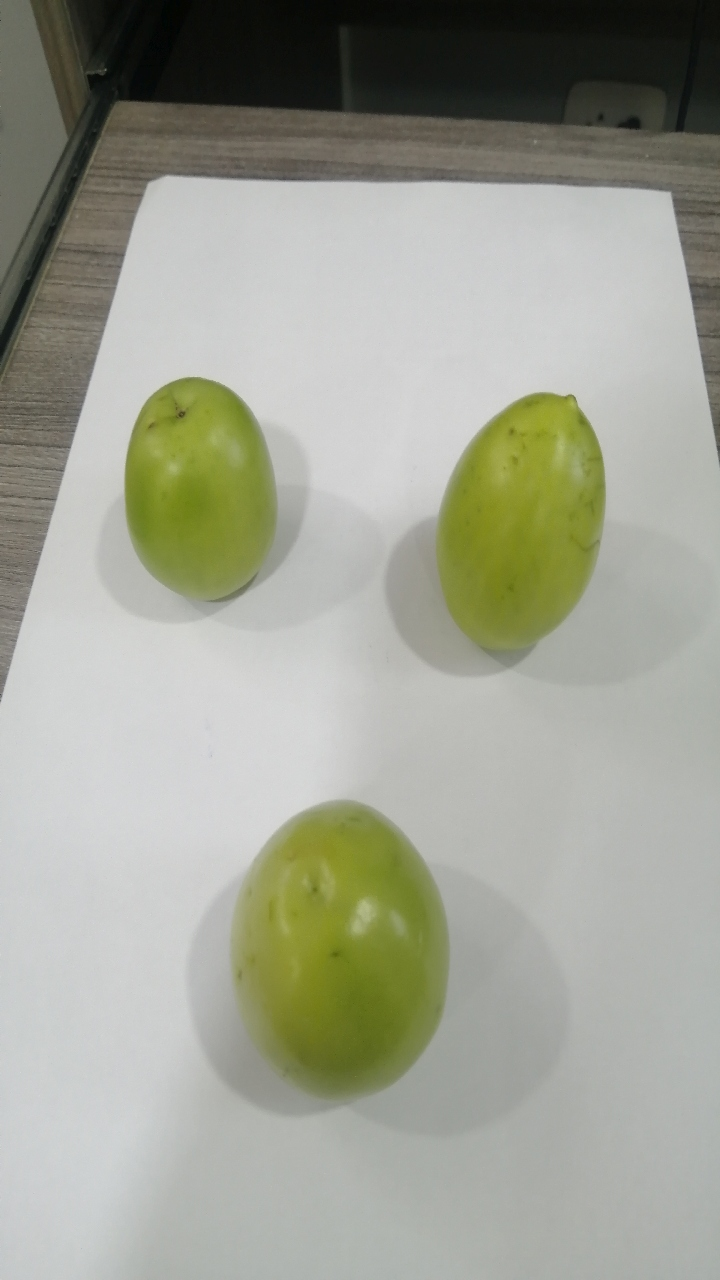tomateVerde: (209, 768, 483, 1140), (418, 366, 637, 669), (95, 345, 300, 637)
